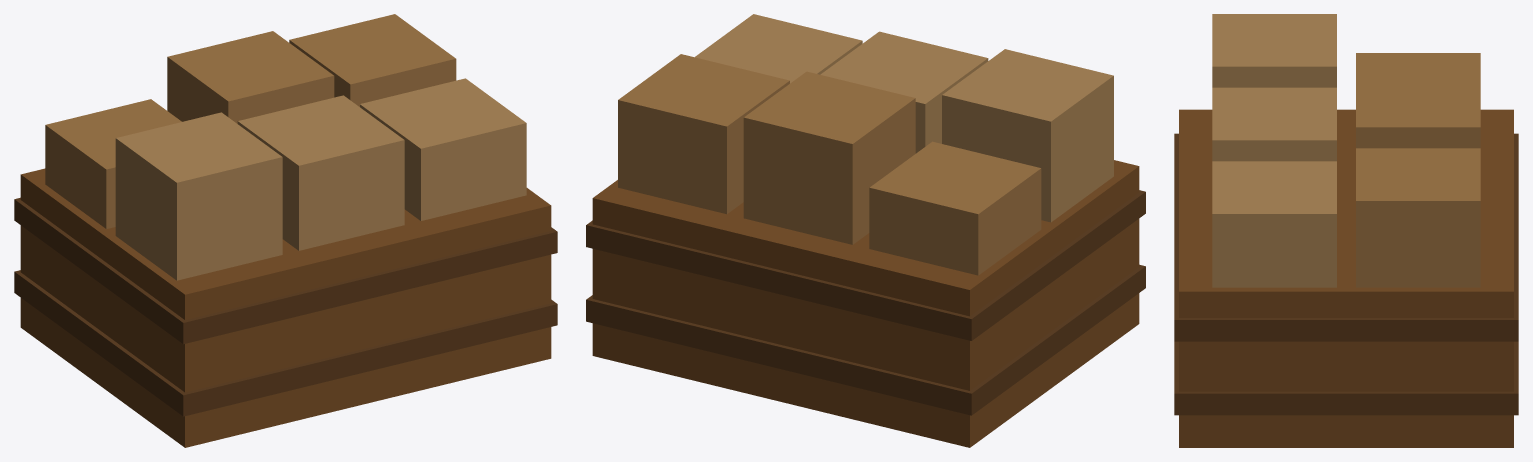
The model's file is cp-crate-potato.glb.
3 renders of one model, left to right at view 1: azimuth 30°, elevation 25°; view 2: azimuth 150°, elevation 25°; view 3: azimuth 270°, elevation 25°, orthographic. The views are drawn at different scales.
Visible parts, largest first — view 1: box-prop; view 2: box-prop; view 3: box-prop.
Part boxes in pixels (left/top/right/bottom): box-prop: left=14, top=14, right=557, bottom=447; box-prop: left=586, top=14, right=1145, bottom=447; box-prop: left=1174, top=14, right=1518, bottom=447.
Bounding box in the file's own units: 0.92 × 0.59 × 0.72.
